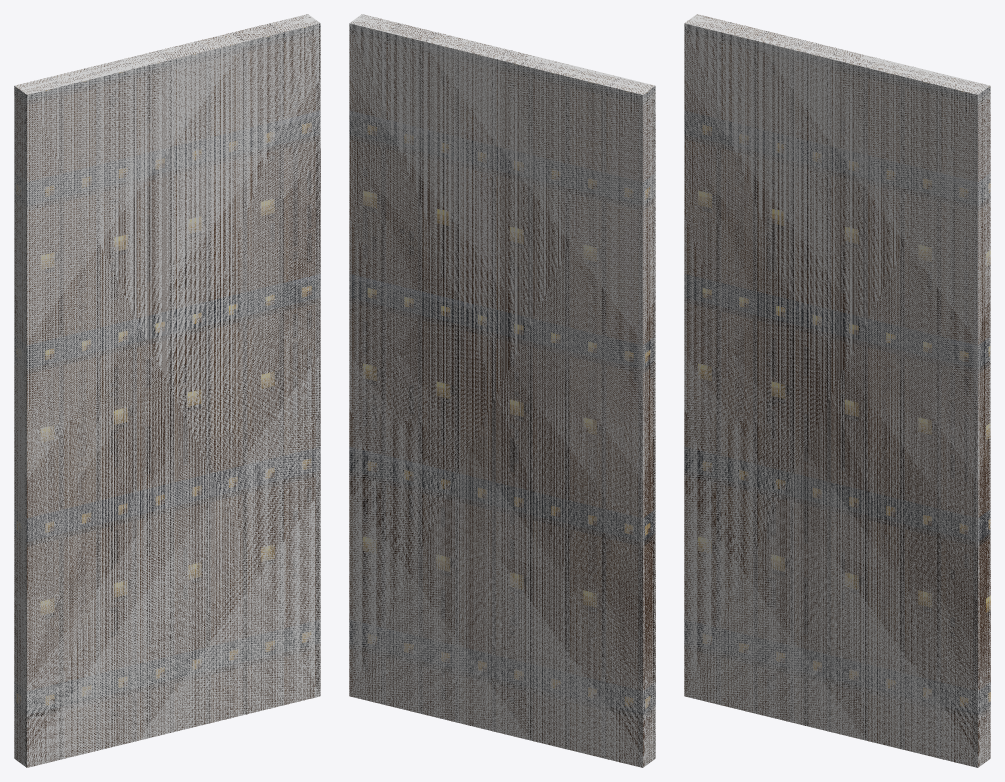
The model's file is JP_Rich_CityGate_A_DoorL.glb.
3 renders of one model, left to right at view 1: azimuth 30°, elevation 25°; view 2: azimuth 150°, elevation 25°; view 3: azimuth 330°, elevation 25°, orthographic.
Parts seen in each view (by area): view 1: COL_JP_Rich_CityGate_A_DoorL, JP_Rich_CityGate_A_DoorL; view 2: COL_JP_Rich_CityGate_A_DoorL, JP_Rich_CityGate_A_DoorL; view 3: COL_JP_Rich_CityGate_A_DoorL, JP_Rich_CityGate_A_DoorL.
Part boxes in pixels (x1,y1,x2,y2): COL_JP_Rich_CityGate_A_DoorL: (14, 14, 320, 767); JP_Rich_CityGate_A_DoorL: (14, 14, 320, 767); COL_JP_Rich_CityGate_A_DoorL: (349, 14, 655, 767); JP_Rich_CityGate_A_DoorL: (349, 15, 655, 767); COL_JP_Rich_CityGate_A_DoorL: (684, 14, 990, 767); JP_Rich_CityGate_A_DoorL: (684, 14, 990, 767).
Size of the model in its own units: 2 by 4.38 by 0.15.
Materials: 1 (1 with a texture image).
